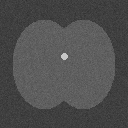nodule: (58, 48, 71, 63)
